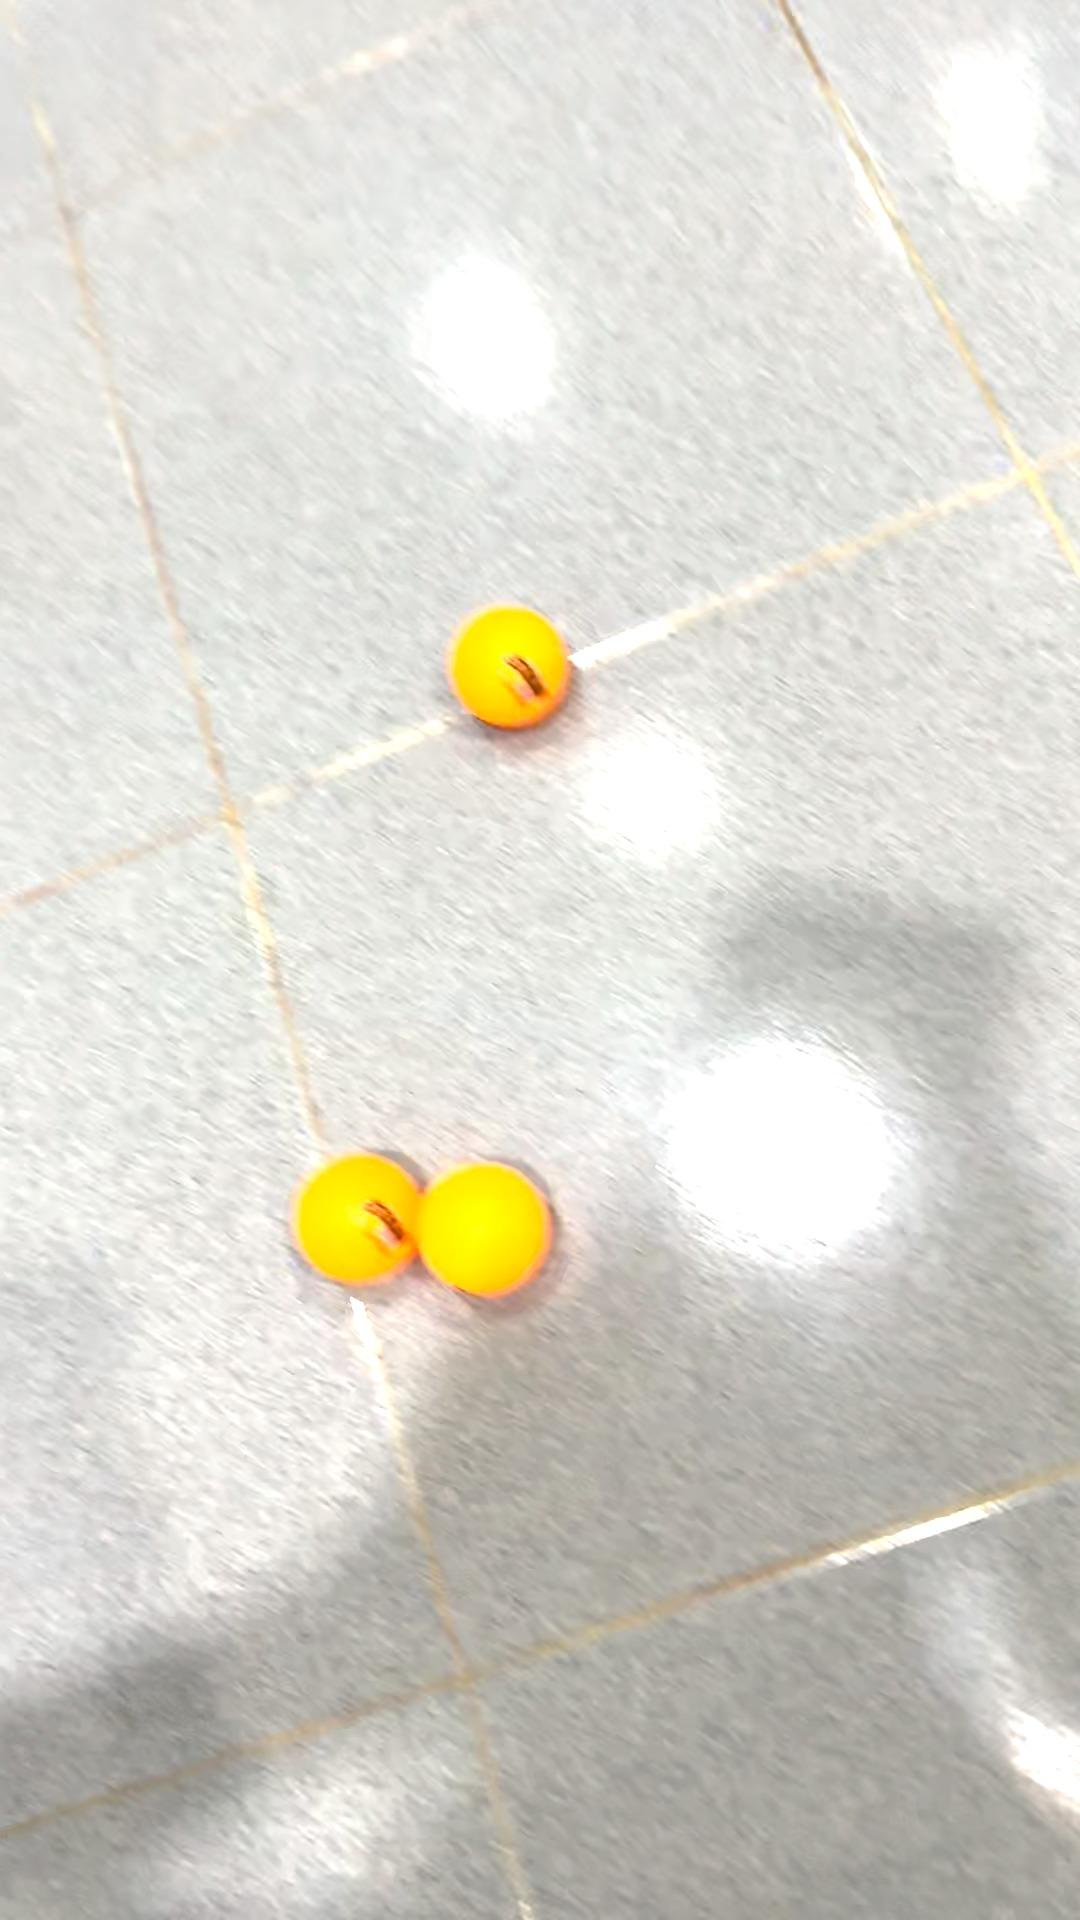oball: (411, 1151, 564, 1312), (289, 1138, 438, 1299), (434, 588, 575, 740)
